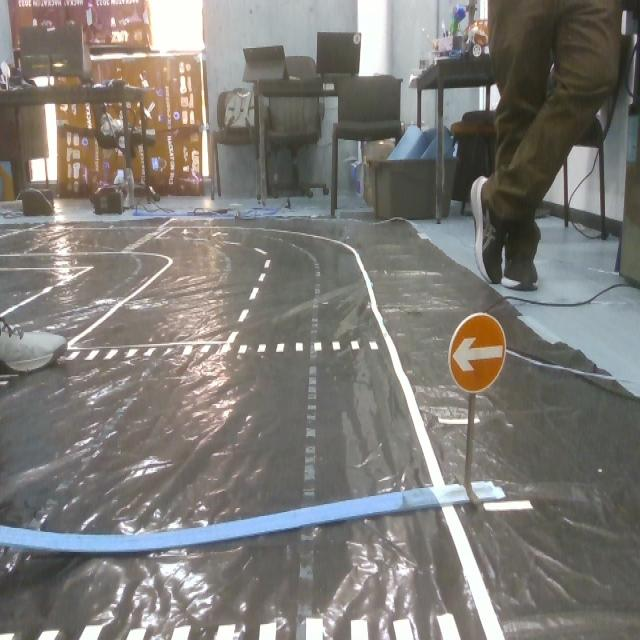forward: (442, 309, 514, 396)
